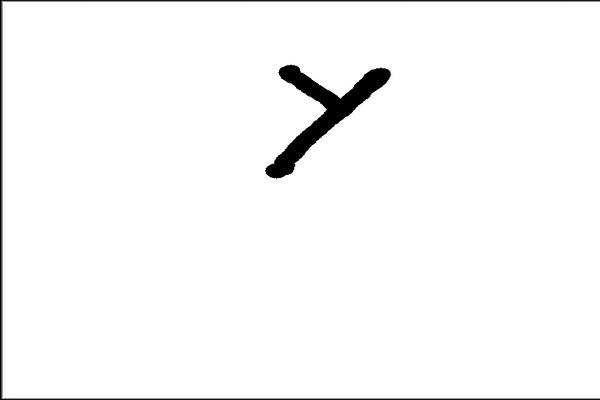Y: (251, 54, 399, 184)
